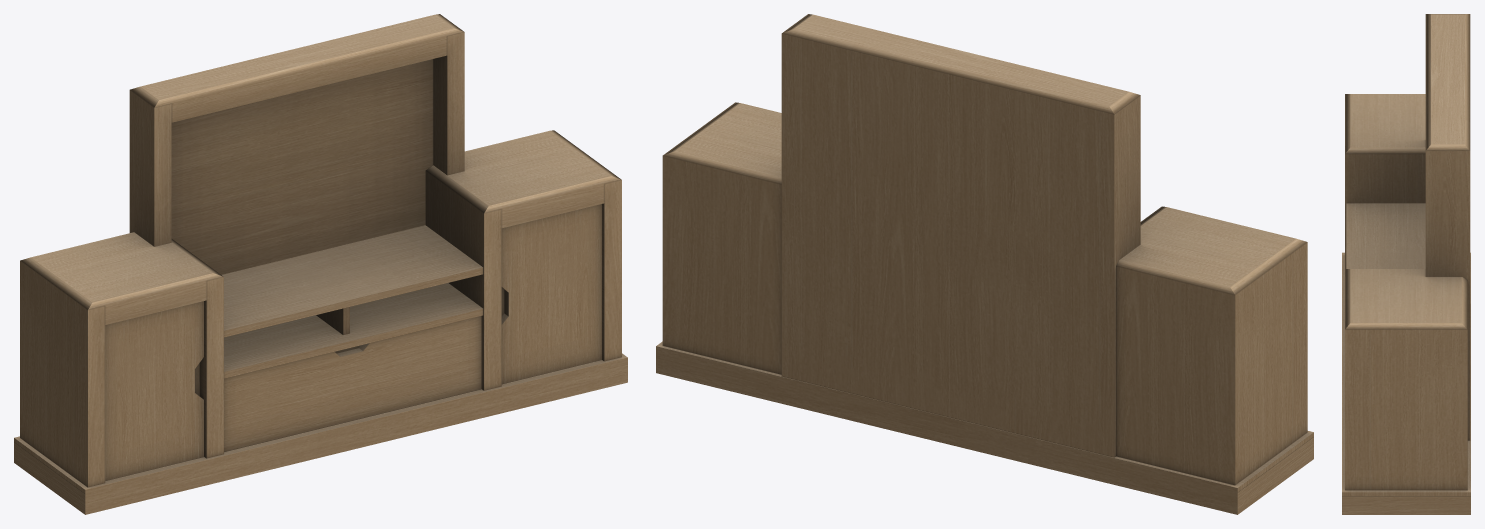
The model's file is Sun_0108_TV_cabinet.fbx.
The picture shows the model from 3 angles, left to right: view 1: azimuth 30°, elevation 25°; view 2: azimuth 150°, elevation 25°; view 3: azimuth 270°, elevation 25°; orthographic projection. The views are drawn at different scales.
Visible parts, largest first — view 1: Sun_0108_TV_cabinet; view 2: Sun_0108_TV_cabinet; view 3: Sun_0108_TV_cabinet.
Part boxes in pixels (left/top/right/bottom): Sun_0108_TV_cabinet: left=14, top=14, right=627, bottom=514; Sun_0108_TV_cabinet: left=656, top=14, right=1313, bottom=514; Sun_0108_TV_cabinet: left=1342, top=14, right=1470, bottom=514.
Size of the model in its own units: 210 by 129 by 47.66.
